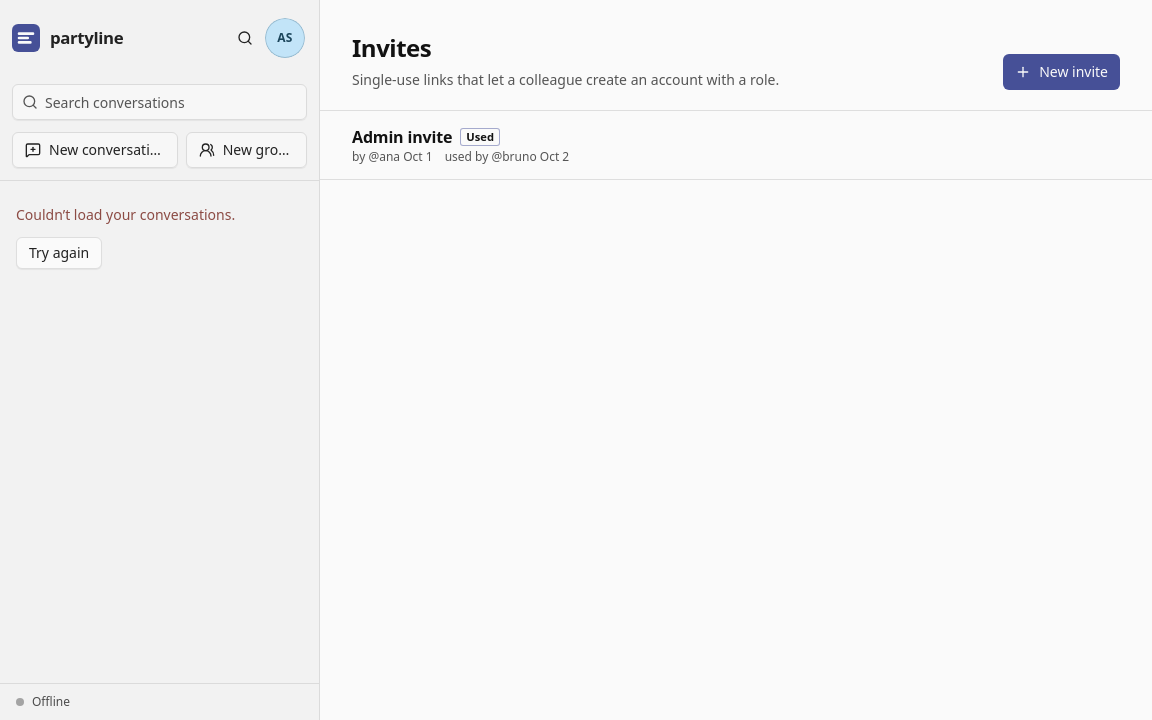
Test: admin invites (UI-20) › says what a role gets in terms of organizations, not of what it owns or is shared with it
Step 1. Click the button "New invite" → [1062, 72], box [1003,54,1120,90]
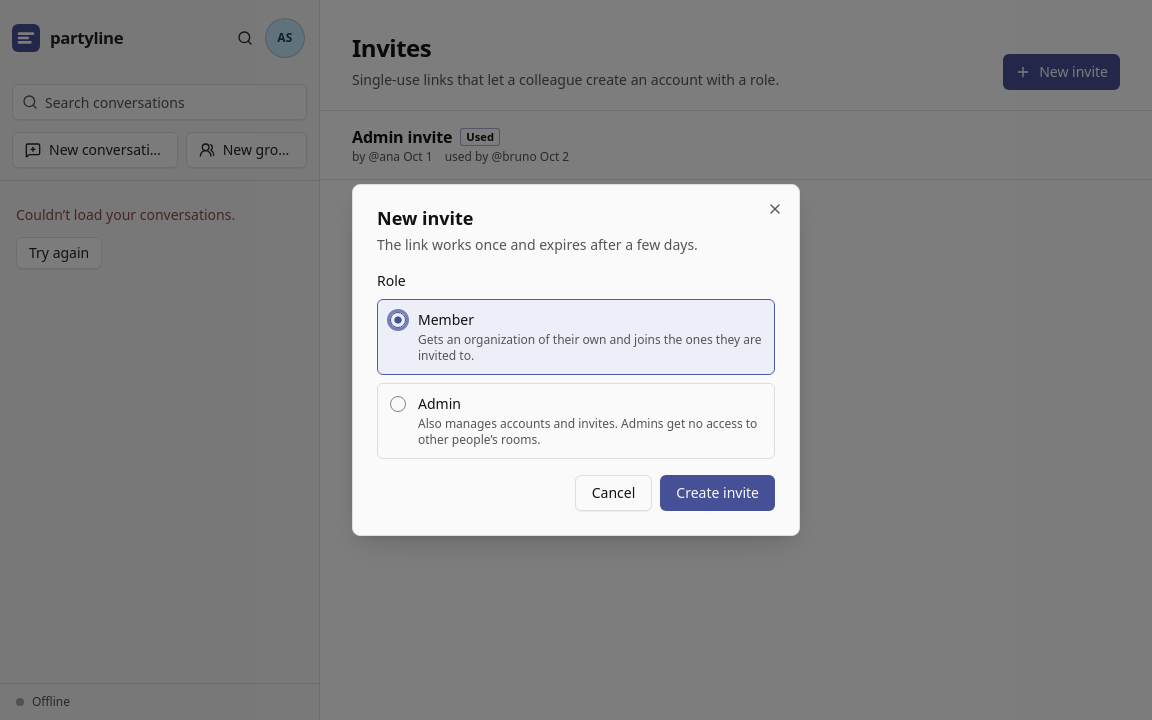
Expected: the dialog "New invite" does not show "shared with them", [352,184,800,536]
Expected: the text "Gets an organization of their own and joins the ones they are invited to." is shown, [418,332,762,364]
